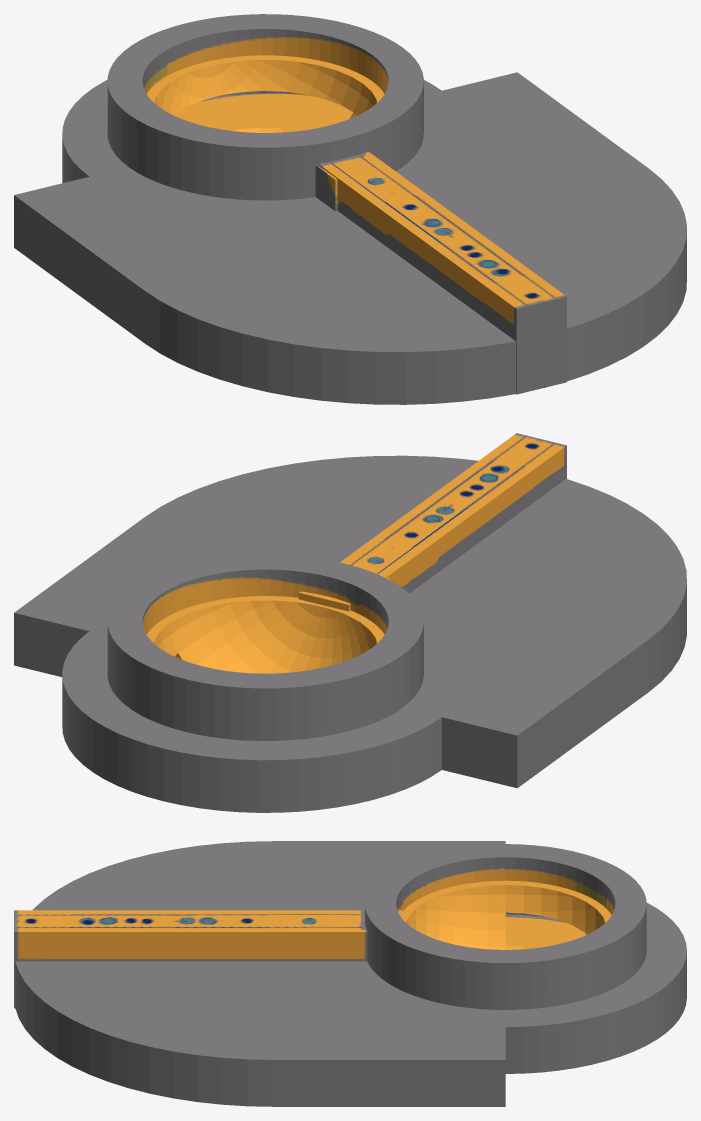
Rendered from Door top.fbx.
The picture shows the model from 3 angles, top to bottom: view 1: azimuth 30°, elevation 25°; view 2: azimuth 150°, elevation 25°; view 3: azimuth 270°, elevation 25°; orthographic projection. The views are drawn at different scales.
Visible parts, largest first — view 1: node_id3; view 2: node_id3; view 3: node_id3.
Part boxes in pixels (bbox=[...]): node_id3: bbox=[14, 14, 686, 404]; node_id3: bbox=[14, 433, 686, 812]; node_id3: bbox=[14, 841, 686, 1106].
Size of the model in its own units: 0.512 by 0.1024 by 0.6656.
Materials: 1 (1 with a texture image).
